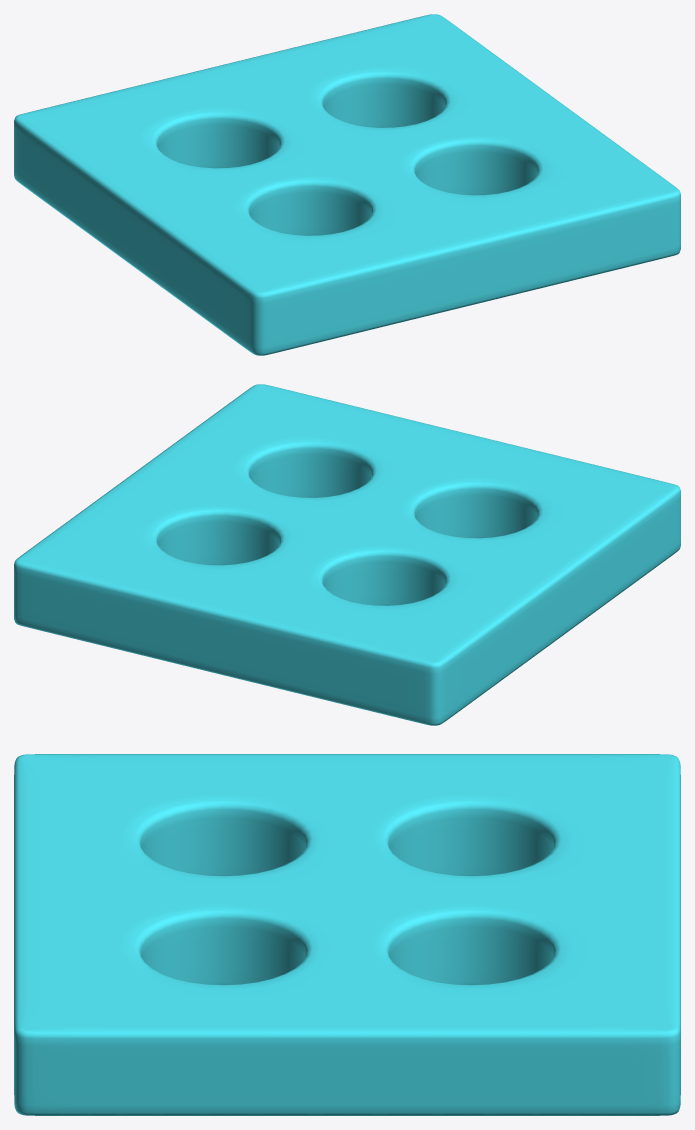
The model's file is toy_square.fbx.
3 renders of one model, top to bottom at view 1: azimuth 30°, elevation 25°; view 2: azimuth 150°, elevation 25°; view 3: azimuth 270°, elevation 25°, orthographic. The views are drawn at different scales.
Visible parts, largest first — view 1: Cube.001; view 2: Cube.001; view 3: Cube.001.
Boxes of the visible parts, x1=… form: Cube.001: x1=14, y1=14, x2=680, y2=355; Cube.001: x1=14, y1=384, x2=680, y2=725; Cube.001: x1=14, y1=754, x2=680, y2=1115.
Size of the model in its own units: 4.69 by 0.6562 by 4.69.
